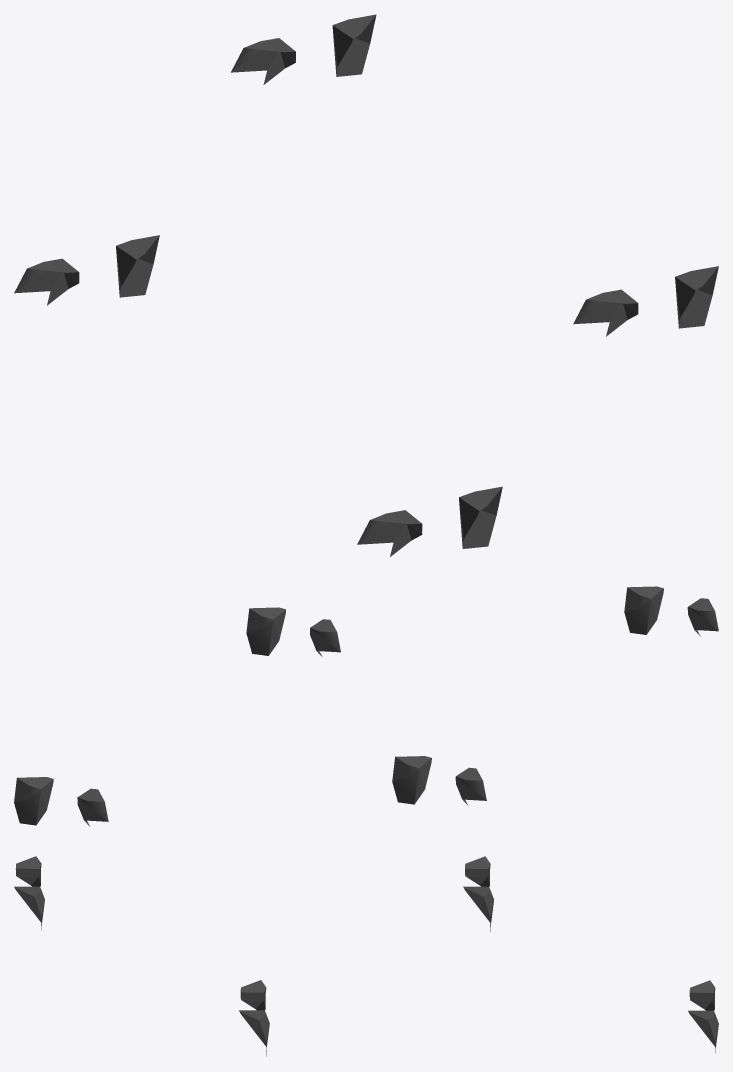
The model's file is Trashdoordeco.fbx.
3 views of the same model, one above another, from view 1: azimuth 30°, elevation 25°; view 2: azimuth 150°, elevation 25°; view 3: azimuth 270°, elevation 25° (orthographic). The views are drawn at different scales.
Visible parts, largest first — view 1: door_ornament_trash7; view 2: door_ornament_trash7; view 3: door_ornament_trash7.
Boxes of the visible parts, box(x1,y1,x2,y2) form: door_ornament_trash7: box(14, 14, 718, 556); door_ornament_trash7: box(14, 586, 718, 826); door_ornament_trash7: box(14, 856, 718, 1056).
Size of the model in its own units: 2314 by 256 by 4077.
Materials: 1 (1 with a texture image).
